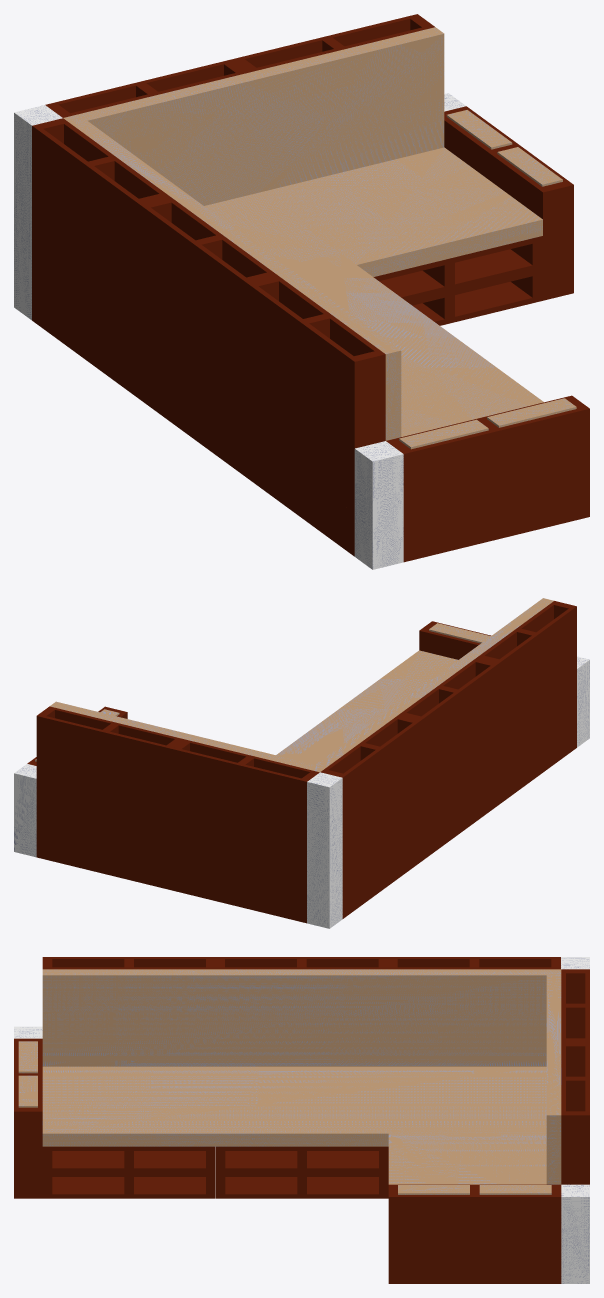
The picture shows the model from 3 angles, top to bottom: view 1: azimuth 30°, elevation 25°; view 2: azimuth 150°, elevation 25°; view 3: azimuth 270°, elevation 25°; orthographic projection. The views are drawn at different scales.
Parts seen in each view (by area): view 1: SketchUp (×6), Group_3 (×12), Group_4 (×2), Group_1; view 2: Group_3 (×10), SketchUp (×3), Group_4; view 3: SketchUp (×6), Group_3 (×16), Group_4 (×2), Group_1 (×5).
Boxes of the visible parts, x1,y1,x2,y2 form: SketchUp (×6): (14, 27, 576, 569); Group_3 (×12): (32, 14, 542, 556); Group_4 (×2): (386, 106, 589, 562); Group_1: (354, 351, 380, 446); Group_3 (×10): (36, 601, 576, 923); SketchUp (×3): (14, 598, 589, 928); Group_4: (419, 621, 491, 659); SketchUp (×6): (14, 957, 589, 1283); Group_3 (×16): (42, 957, 589, 1198); Group_4 (×2): (14, 1038, 561, 1283); Group_1 (×5): (566, 969, 585, 1184).
Size of the model in its own units: 84 by 120 by 36.
